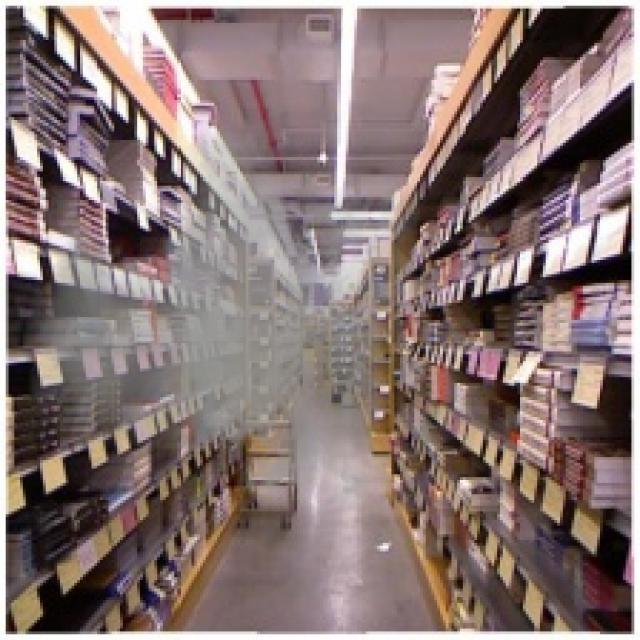Smoke: (28, 111, 420, 523)
